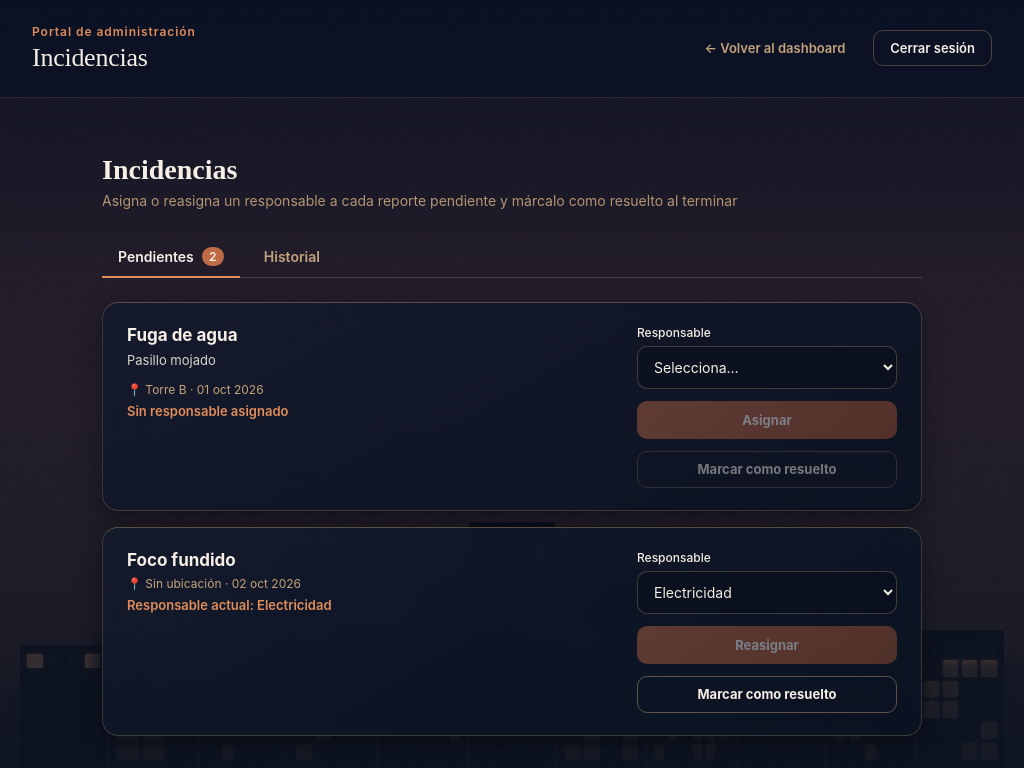
Test: CU-08 pendientes › reasignar muestra "Responsable reasignado" y Escape cierra el modal
Expected: the heading "Foco fundido" is shown, [127, 550, 236, 570]
Step 1. Select "Limpieza" in the dropdown labelled "Responsable" in the row of "Sin ubicación" → [767, 592], box [637, 571, 897, 614]
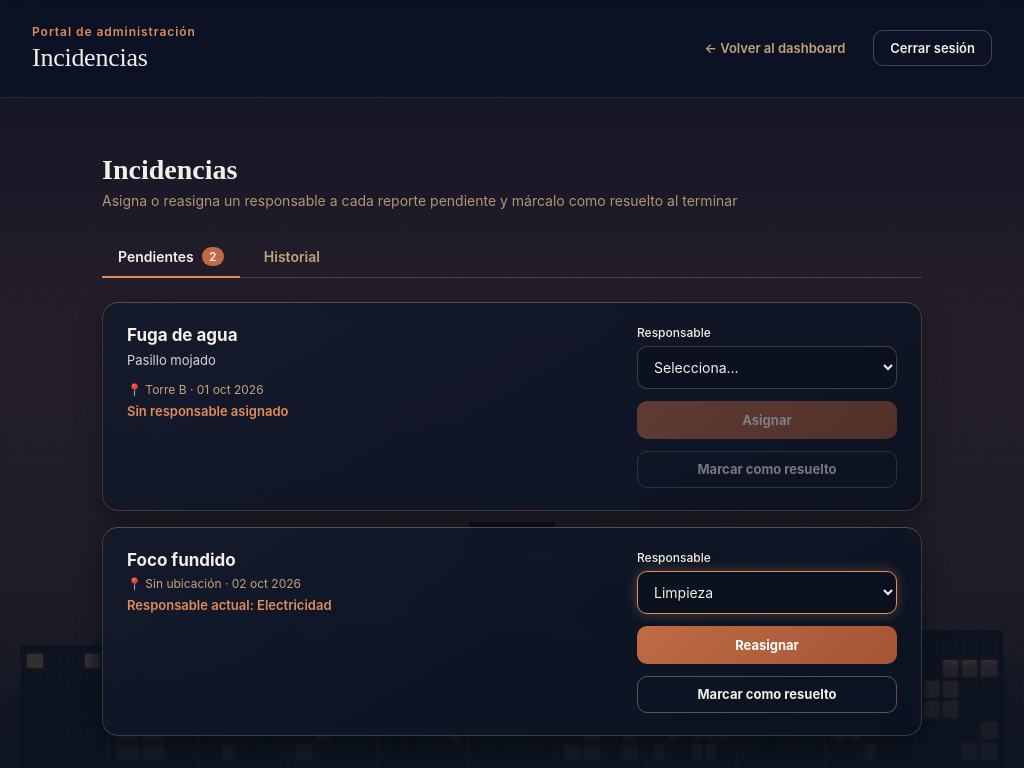
Step 2. Click the button "Reasignar" → [767, 645], box [637, 626, 897, 664]
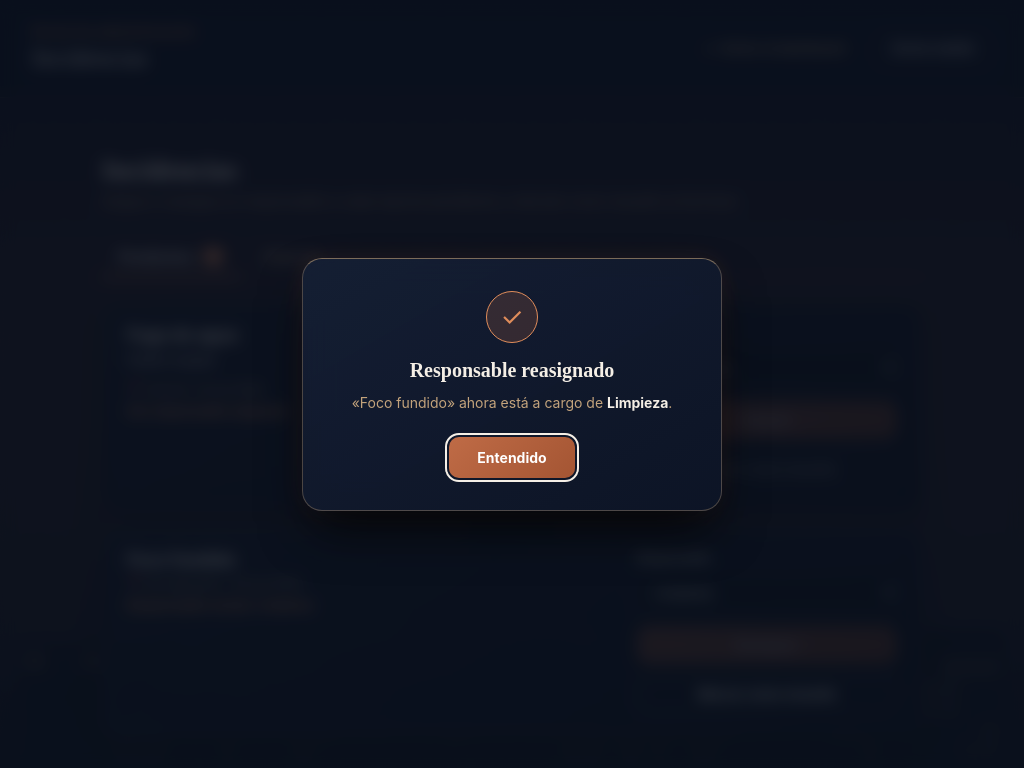
Now the heading "Responsable reasignado" is shown, box [410, 358, 614, 380]
Step 3. Press Escape
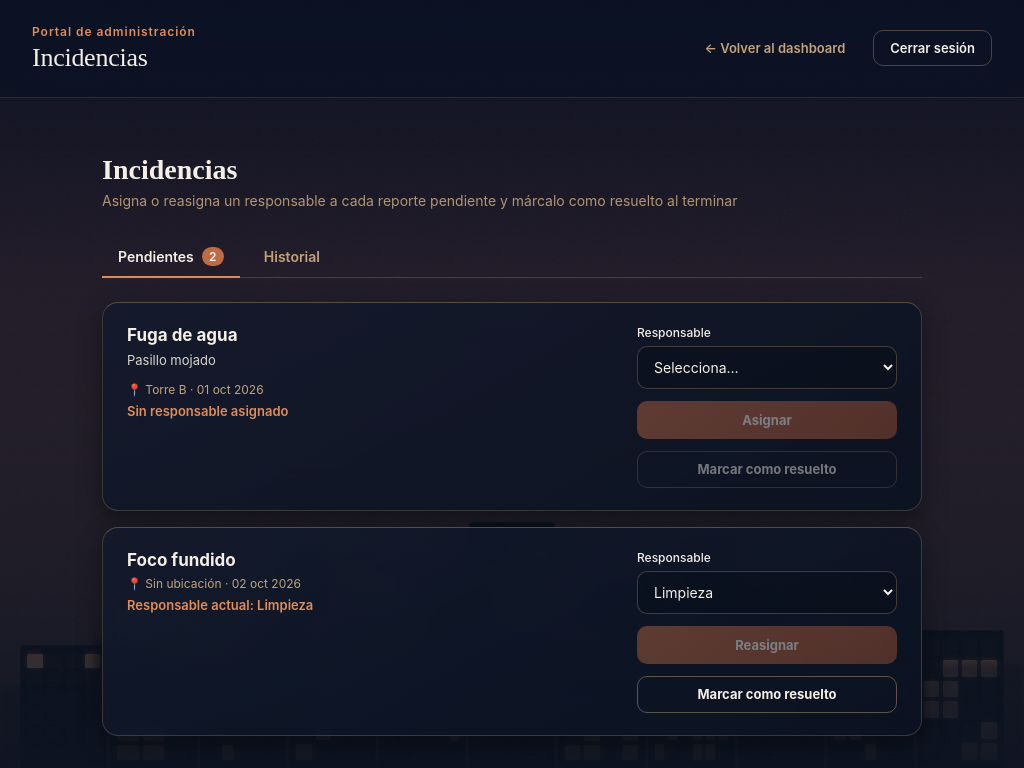
Now the dialog is gone
